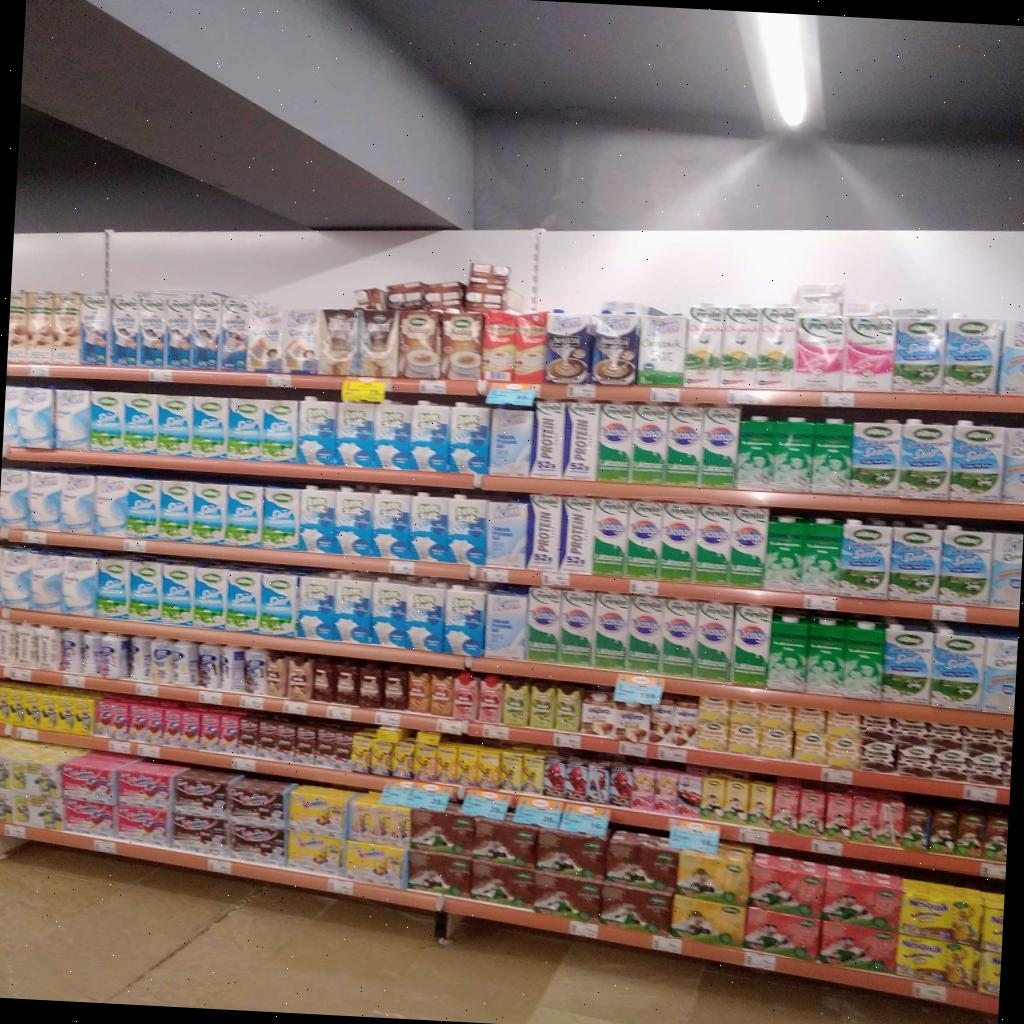price_tag: (382, 781, 450, 811), (669, 820, 719, 854), (560, 803, 610, 836), (513, 796, 563, 829), (614, 674, 663, 706), (461, 789, 509, 820), (486, 383, 536, 407), (342, 378, 386, 403), (381, 782, 418, 808), (417, 783, 451, 811), (913, 982, 947, 1003), (932, 605, 967, 622), (964, 785, 997, 803), (803, 594, 837, 611), (745, 951, 775, 970), (738, 828, 771, 845), (811, 839, 843, 856), (822, 392, 855, 408), (820, 769, 854, 784), (657, 746, 687, 763), (652, 936, 682, 953), (569, 921, 599, 938), (436, 718, 465, 735), (650, 388, 681, 403), (618, 741, 647, 757), (631, 580, 660, 596), (553, 733, 581, 749), (729, 391, 761, 405), (480, 568, 509, 583), (328, 878, 353, 895), (566, 385, 596, 399), (542, 572, 570, 587), (419, 379, 447, 394), (375, 711, 401, 727), (981, 862, 1005, 879), (5, 666, 32, 681), (482, 725, 509, 740), (389, 560, 415, 575), (207, 859, 232, 874), (327, 706, 352, 721), (283, 700, 308, 715), (267, 373, 292, 388), (239, 695, 264, 710), (198, 690, 222, 705), (231, 758, 256, 772), (107, 740, 131, 754), (149, 369, 173, 383), (62, 674, 86, 688), (94, 840, 117, 854), (135, 684, 159, 697), (4, 825, 26, 839), (138, 745, 160, 759), (124, 540, 147, 553), (16, 727, 39, 740), (23, 532, 47, 544), (28, 365, 50, 377), (0, 526, 10, 540), (1, 607, 10, 620)
product: (899, 880, 982, 945), (822, 867, 900, 932), (749, 854, 826, 918), (895, 934, 979, 989), (605, 831, 679, 893), (950, 421, 1005, 502), (938, 525, 993, 606), (931, 628, 984, 710), (899, 420, 952, 500), (817, 921, 897, 973), (11, 744, 85, 800), (945, 318, 1000, 393), (742, 908, 821, 960), (676, 850, 749, 906), (883, 624, 934, 704), (840, 520, 891, 599), (889, 526, 941, 603), (288, 785, 362, 839), (599, 881, 672, 935), (793, 314, 844, 391), (850, 420, 901, 497), (893, 318, 945, 393), (671, 895, 746, 946), (844, 315, 893, 392), (173, 768, 245, 819), (536, 828, 607, 879), (723, 508, 768, 588), (346, 793, 411, 848), (227, 779, 297, 830), (117, 759, 185, 811), (637, 315, 686, 387), (754, 306, 796, 389), (61, 752, 128, 804), (591, 314, 640, 385), (532, 871, 600, 922), (698, 407, 740, 488), (842, 621, 885, 700), (694, 602, 735, 683), (471, 818, 537, 868), (719, 305, 759, 387), (732, 606, 772, 687), (764, 516, 807, 591), (546, 313, 592, 383), (410, 494, 456, 563), (684, 304, 722, 387), (337, 402, 384, 469), (470, 859, 534, 908), (767, 615, 808, 691), (409, 400, 452, 472), (631, 405, 670, 484), (490, 408, 535, 476), (484, 589, 527, 660), (694, 505, 732, 585), (802, 518, 842, 594), (373, 491, 417, 560), (773, 417, 814, 491), (812, 419, 853, 493), (484, 501, 529, 568), (408, 849, 472, 896), (563, 402, 601, 481), (445, 585, 487, 656), (345, 839, 407, 887), (735, 417, 776, 489), (982, 631, 1018, 713), (659, 504, 696, 582), (661, 599, 698, 677), (666, 406, 702, 486), (372, 578, 413, 648), (450, 403, 490, 474), (399, 310, 440, 379), (219, 297, 257, 371), (442, 312, 483, 380), (376, 402, 417, 470), (405, 584, 446, 652), (558, 591, 595, 666), (626, 502, 662, 579), (808, 618, 844, 695), (411, 809, 474, 853), (482, 311, 521, 382), (336, 487, 376, 556), (288, 827, 344, 876), (530, 402, 566, 478), (598, 405, 633, 483), (527, 494, 562, 572), (627, 595, 662, 673), (299, 397, 339, 465), (333, 576, 373, 644), (592, 500, 628, 575), (559, 497, 594, 574), (594, 593, 629, 670), (300, 485, 339, 554), (449, 495, 488, 564), (511, 312, 548, 384), (228, 821, 287, 866), (989, 532, 1023, 609), (320, 309, 359, 376), (173, 807, 228, 854), (260, 487, 301, 550), (527, 588, 561, 663), (259, 571, 298, 636), (361, 310, 398, 378), (297, 575, 335, 641), (247, 303, 283, 371), (58, 555, 98, 616), (283, 309, 321, 373), (17, 387, 56, 449), (225, 485, 264, 547), (227, 398, 263, 461), (117, 804, 171, 846), (192, 294, 222, 369), (27, 471, 65, 530), (53, 389, 90, 449), (192, 397, 228, 458), (263, 401, 299, 462), (94, 476, 130, 537), (226, 570, 261, 632), (193, 482, 227, 545), (28, 552, 63, 613), (96, 557, 131, 618), (165, 293, 193, 368), (61, 474, 96, 534), (80, 295, 110, 364), (109, 296, 139, 365), (26, 292, 55, 362), (138, 296, 166, 368), (90, 392, 124, 451), (158, 396, 192, 455), (194, 567, 226, 629), (0, 549, 33, 609), (63, 796, 115, 834), (159, 481, 193, 539), (52, 293, 80, 363), (124, 393, 157, 452), (127, 478, 159, 538), (129, 561, 161, 621), (163, 565, 195, 625), (14, 793, 62, 830), (1001, 427, 1024, 504), (0, 469, 29, 528), (581, 693, 619, 737), (771, 779, 801, 834), (7, 290, 29, 360), (955, 810, 986, 858), (797, 787, 826, 837), (980, 894, 1004, 953), (876, 796, 904, 846), (824, 790, 852, 840), (98, 633, 129, 678), (616, 703, 650, 744), (928, 808, 958, 854), (671, 773, 701, 819), (850, 793, 877, 843), (127, 636, 160, 676), (900, 806, 930, 850), (555, 686, 583, 732), (895, 744, 934, 777), (982, 813, 1008, 862), (452, 672, 478, 720), (515, 752, 544, 795), (503, 679, 529, 726), (747, 782, 774, 827), (245, 647, 270, 695), (478, 675, 503, 723), (172, 640, 198, 686), (529, 683, 555, 729), (700, 775, 726, 821), (722, 779, 749, 823), (968, 750, 1004, 782), (221, 646, 246, 692), (275, 720, 303, 761), (382, 667, 408, 711), (562, 757, 588, 801), (3, 385, 22, 445), (632, 767, 659, 809), (722, 701, 771, 724), (197, 644, 222, 689), (35, 627, 61, 670), (758, 704, 799, 731), (151, 638, 175, 684), (176, 705, 201, 749), (793, 732, 826, 765), (827, 736, 860, 769), (891, 719, 931, 746), (408, 670, 433, 713), (288, 659, 314, 700), (58, 629, 82, 673), (655, 769, 679, 813), (79, 630, 102, 675), (978, 951, 1001, 996), (14, 625, 38, 668), (650, 703, 675, 744), (499, 751, 524, 792), (219, 711, 244, 752), (430, 673, 453, 717), (312, 660, 336, 702), (610, 765, 634, 807), (586, 762, 610, 804), (676, 699, 698, 744), (934, 749, 967, 779), (294, 722, 317, 765), (759, 729, 792, 758), (543, 755, 565, 798), (266, 653, 287, 697), (359, 666, 381, 708), (861, 741, 894, 769), (478, 748, 500, 790), (336, 665, 359, 705), (435, 743, 458, 783), (827, 712, 861, 739), (698, 697, 733, 723), (457, 745, 479, 786), (314, 724, 336, 765), (237, 714, 259, 755), (199, 710, 221, 751), (72, 697, 94, 738), (729, 725, 759, 755), (696, 722, 727, 751), (964, 724, 996, 752), (392, 740, 415, 778), (257, 717, 278, 758), (413, 742, 435, 781), (351, 733, 372, 773), (928, 723, 962, 747), (370, 739, 392, 776), (333, 731, 354, 769), (162, 705, 181, 746), (793, 708, 825, 732), (40, 694, 60, 732), (22, 692, 42, 730), (862, 716, 892, 741), (128, 704, 148, 740), (110, 704, 130, 740), (95, 700, 113, 740), (146, 705, 164, 744), (0, 623, 17, 664), (0, 739, 13, 790), (60, 696, 76, 734), (993, 731, 1013, 757), (7, 689, 22, 723), (0, 788, 13, 823), (0, 686, 11, 726)
